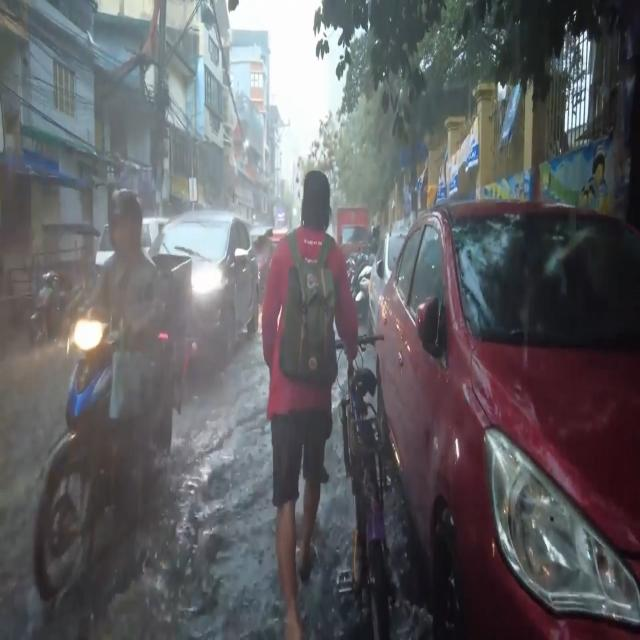half: (106, 188, 144, 261)
